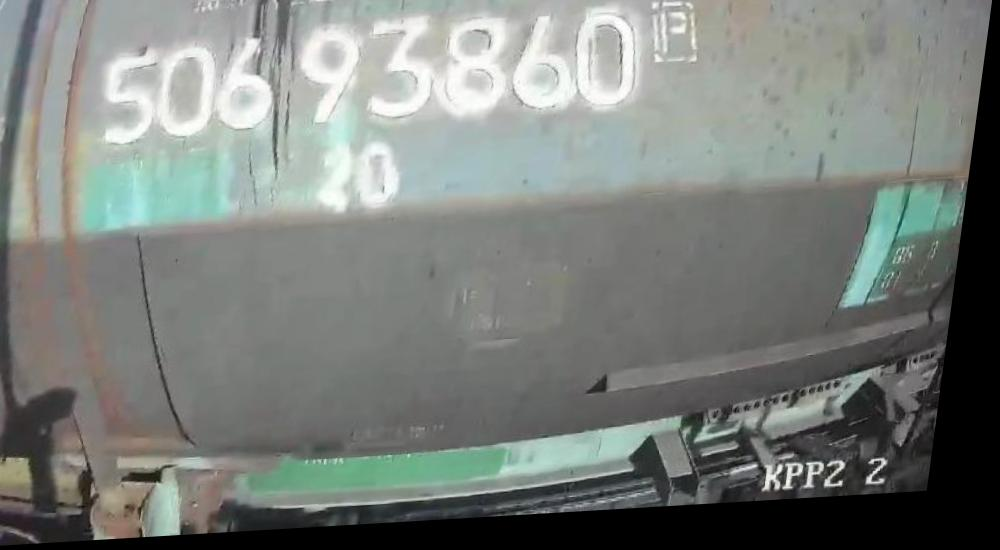Wagon-number: (90, 8, 656, 152)
